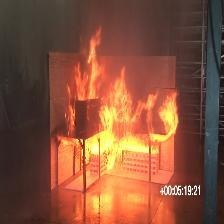fire: (41, 24, 195, 198)
